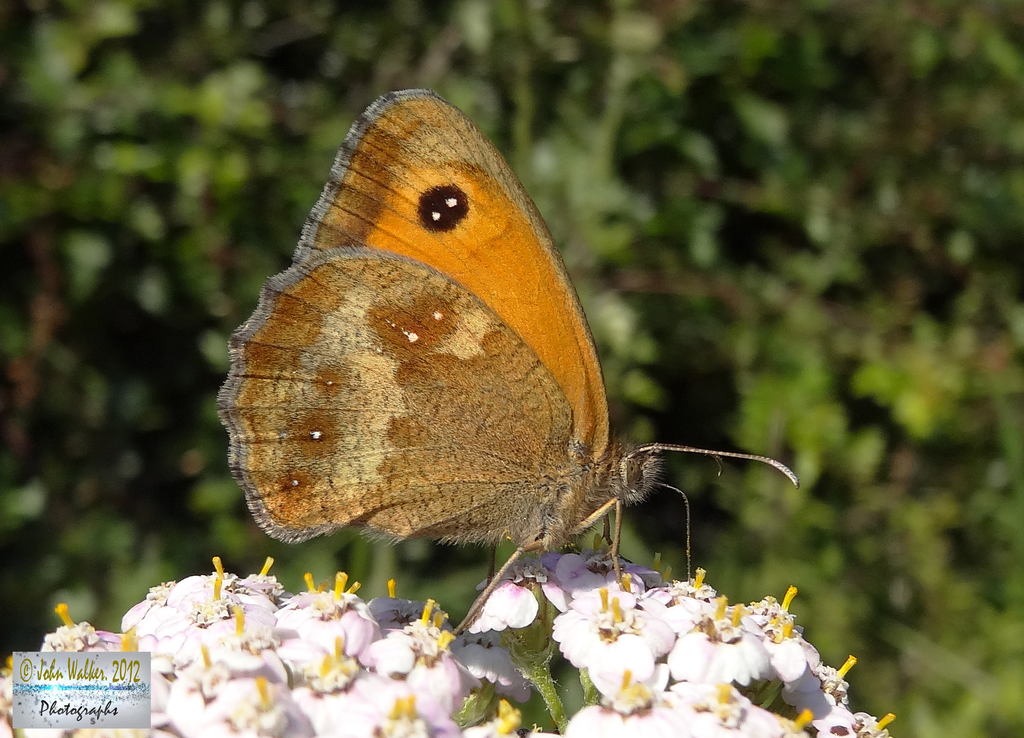Butterfly: (191, 78, 754, 597)
